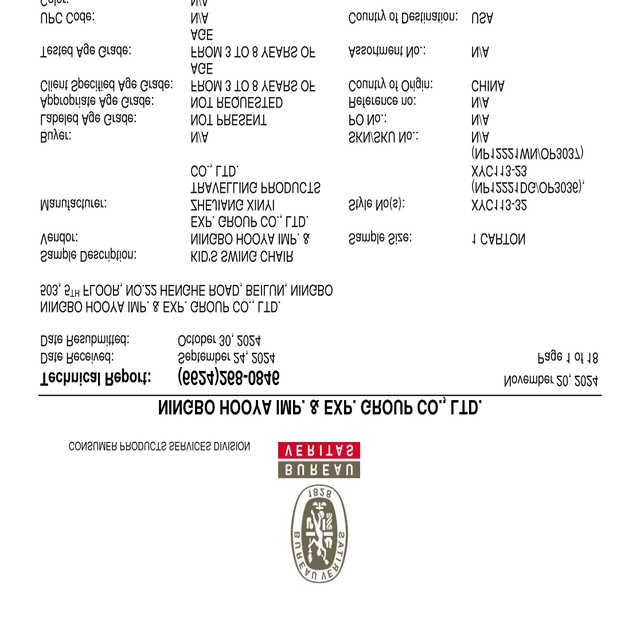bureau_veritas: (279, 442, 359, 582)
